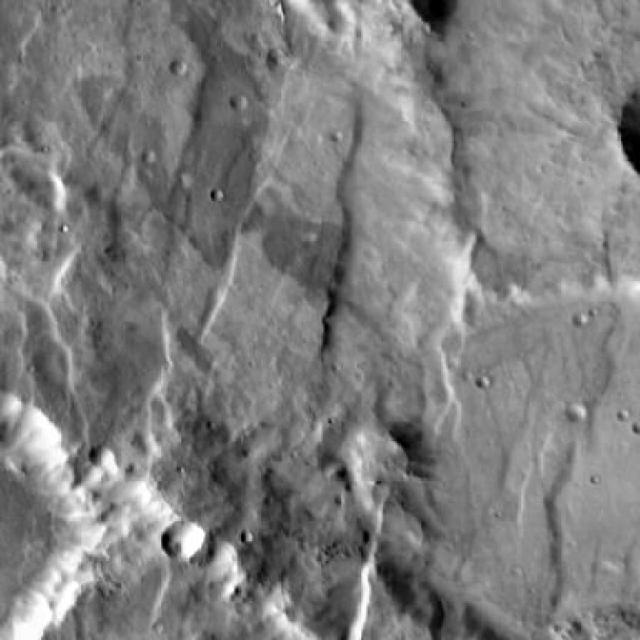crater: (367, 264, 640, 640), (164, 520, 207, 557), (0, 387, 32, 424), (92, 448, 117, 470), (568, 406, 588, 422), (234, 95, 252, 110)
